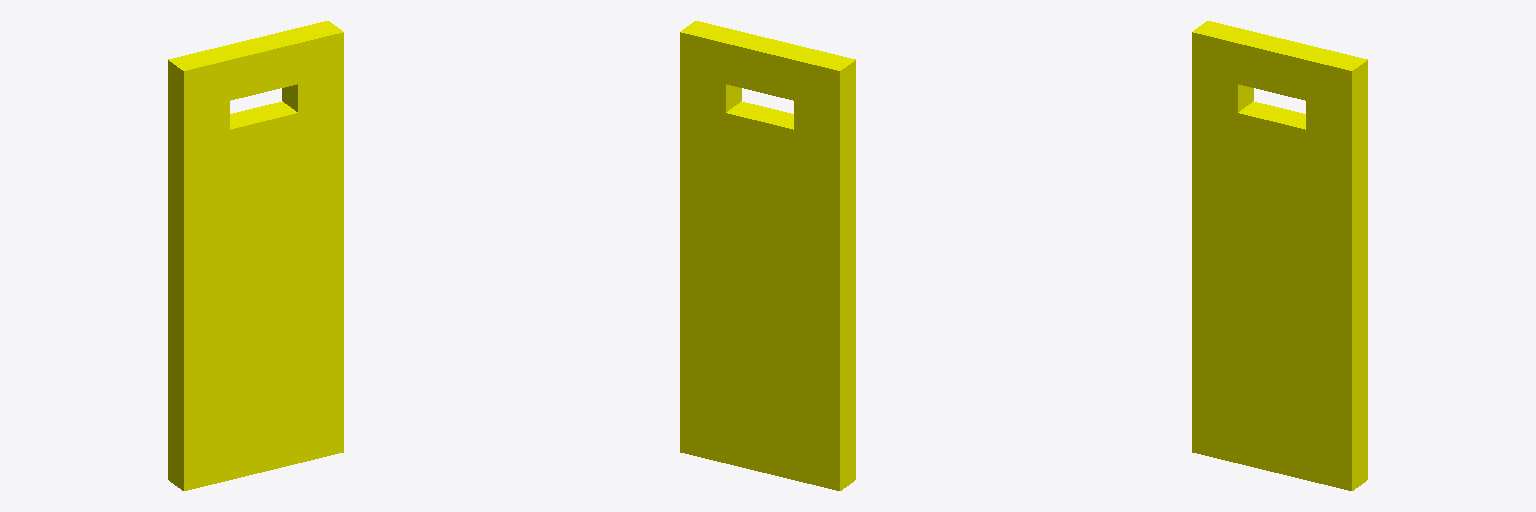
URDF robot description (box_dummy):
<?xml version="1.0"?>
<robot name="box_dummy">
  <material name="black">
    <color rgba="0.0 0.0 0.0 1.0"/>
  </material>
  <material name="orange">
    <color rgba="1.0 0.4 0.0 1.0"/>
  </material>

  <link name="base">
    <visual>
        <geometry>
            <box size="0.07 0.012 0.1460"/>
        </geometry>
        <origin rpy="0 0 0" xyz="0 0 0"/>
        <material name="yellow">
            <color rgba="1 1 0 1"/>
        </material>
    </visual>
    <collision>
        <geometry>
          <box size="0.07 0.012 0.1460"/>
        </geometry>
        <origin rpy="0 0 0" xyz="0 0 0"/>
    </collision>
    <inertial>
      <origin rpy="0 0 0" xyz="0 0 0"/>
       <mass value="0.01"/>
       <inertia ixx="1" ixy="0" ixz="0" iyy="1" iyz="0" izz="1"/>     
    </inertial>
    <surface>
        <friction>
          <ode>
            <mu>100000.0</mu>
            <mu2>100000.0</mu2>
          </ode>
        </friction>
        <contact>
          <ode>
            <min_depth>0.003</min_depth>
          </ode>
        </contact>
      </surface>
  </link>

  <link name="left_fillar">
   <visual>
        <geometry>
            <box size="0.02 0.012 0.012"/>
        </geometry>
        <origin rpy="0 0 0" xyz="0.025 0 0.079"/>
        <material name="yellow">
            <color rgba="1 1 0 1"/>
        </material>
    </visual>
    <collision>
        <geometry>
          <box size="0.02 0.012 0.012"/>
        </geometry>
        <origin rpy="0 0 0" xyz="0.025 0 0.079"/>
    </collision>
    <inertial>
      <origin rpy="0 0 0" xyz="0 0 0"/>
       <mass value="0.01"/>
       <inertia ixx="1" ixy="0" ixz="0" iyy="1" iyz="0" izz="1"/>       
    </inertial>
    <surface>
        <friction>
          <ode>
            <mu>100000.0</mu>
            <mu2>100000.0</mu2>
          </ode>
        </friction>
        <contact>
          <ode>
            <min_depth>0.003</min_depth>
          </ode>
        </contact>
      </surface>
  </link>

  

  <joint name="base_to_left_fillar" type="fixed">
    <parent link="base"/>
    <child link="left_fillar"/>
  </joint>

  <link name="right_fillar">
   <visual>
        <geometry>
            <box size="0.02 0.012 0.012"/>
        </geometry>
        <origin rpy="0 0 0" xyz="-0.025 0 0.079"/>
        <material name="yellow">
            <color rgba="1 1 0 1"/>
        </material>
    </visual>
    <collision>
        <geometry>
          <box size="0.02 0.012 0.012"/>
        </geometry>
        <origin rpy="0 0 0" xyz="-0.025 0 0.079"/>
    </collision>
    <inertial>
      <origin rpy="0 0 0" xyz="0 0 0"/>
       <mass value="0.01"/>
       <inertia ixx="1" ixy="0" ixz="0" iyy="1" iyz="0" izz="1"/>       
    </inertial>
    <surface>
        <friction>
          <ode>
            <mu>100000.0</mu>
            <mu2>100000.0</mu2>
          </ode>
        </friction>
        <contact>
          <ode>
            <min_depth>0.003</min_depth>
          </ode>
        </contact>
      </surface>
  </link>

  <joint name="base_to_right_fillar" type="fixed">
    <parent link="base"/>
    <child link="right_fillar"/>
  </joint>

  <link name="top_fillar">
   <visual>
        <geometry>
            <box size="0.07 0.012 0.017"/>
        </geometry>
        <origin rpy="0 0 0" xyz="0 0 0.0935"/>
        <material name="yellow">
            <color rgba="1 1 0 1"/>
        </material>
    </visual>
    <collision>
        <geometry>
         <box size="0.07 0.012 0.017"/>
        </geometry>
        <origin rpy="0 0 0" xyz="0 0 0.0935"/>
    </collision>
    <inertial>
      <origin rpy="0 0 0" xyz="0 0 0"/>
       <mass value="0.01"/>
       <inertia ixx="1" ixy="0" ixz="0" iyy="1" iyz="0" izz="1"/>     
    </inertial>
    <surface>
        <friction>
          <ode>
            <mu>100000.0</mu>
            <mu2>100000.0</mu2>
          </ode>
        </friction>
        <contact>
          <ode>
            <min_depth>0.003</min_depth>
          </ode>
        </contact>
      </surface>
  </link>

  <joint name="base_to_top_fillar" type="fixed">
    <parent link="base"/>
    <child link="top_fillar"/>
  </joint>

</robot>

--- What the picture shows (computed from the rendered views, not written in the file) ---
Views: 3 orthographic renders of the robot side by side, from view 1: azimuth 30°, elevation 25°; view 2: azimuth 150°, elevation 25°; view 3: azimuth 330°, elevation 25°.
Robot: box_dummy — 4 links, 3 joints (3 fixed); root link base; default pose: every joint at zero.
Visible links, largest first — view 1: base, top_fillar, right_fillar, left_fillar; view 2: base, top_fillar, right_fillar, left_fillar; view 3: base, top_fillar, left_fillar, right_fillar.
Boxes of the visible links, x1,y1,x2,y2 form: base: [168, 101, 343, 490]; top_fillar: [168, 21, 343, 111]; right_fillar: [168, 101, 229, 140]; left_fillar: [282, 73, 343, 112]; base: [680, 101, 855, 490]; top_fillar: [680, 21, 855, 111]; right_fillar: [794, 101, 855, 140]; left_fillar: [680, 73, 741, 112]; base: [1192, 101, 1367, 490]; top_fillar: [1192, 21, 1367, 111]; left_fillar: [1306, 101, 1367, 140]; right_fillar: [1192, 73, 1253, 112].
Bounding box of the posed robot: 0.07 × 0.012 × 0.175 m (x, y, z).
Geometry: primitives only (box / cylinder / sphere), no mesh files.